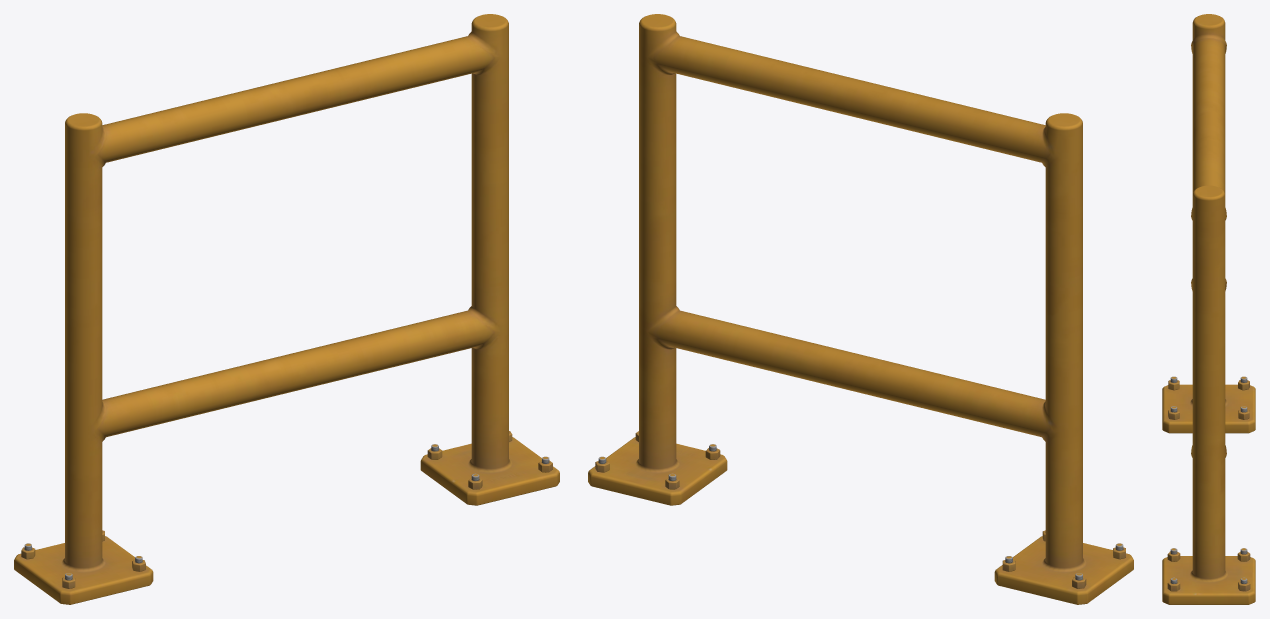
Rendered from barrier_fence_metal_a02.glb.
The picture shows the model from 3 angles, left to right: view 1: azimuth 30°, elevation 25°; view 2: azimuth 150°, elevation 25°; view 3: azimuth 270°, elevation 25°; orthographic projection. The views are drawn at different scales.
Visible parts, largest first — view 1: sm_barrier_fence_a02_mesh_00; view 2: sm_barrier_fence_a02_mesh_00; view 3: sm_barrier_fence_a02_mesh_00.
Part boxes in pixels (left/top/right/bottom): sm_barrier_fence_a02_mesh_00: left=14, top=14, right=559, bottom=604; sm_barrier_fence_a02_mesh_00: left=588, top=14, right=1133, bottom=604; sm_barrier_fence_a02_mesh_00: left=1162, top=14, right=1255, bottom=604.
Size of the model in its own units: 1.23 by 1.07 by 0.23.
1 material, 1 textured.
